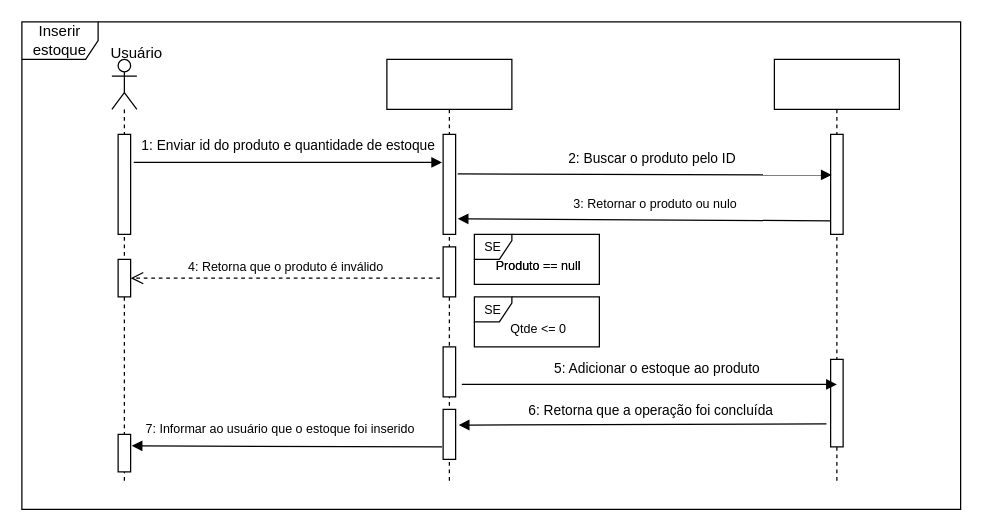
The diagram is 983 pixels wide and 531 high, and some of its shapes have lost their labels. The shapes that lost their labels are listed below. From the top down, each one's centre as x and y in pixels, then its label:
At point 449,271: "Sistema".
At point 836,271: "Banco de Dados".
